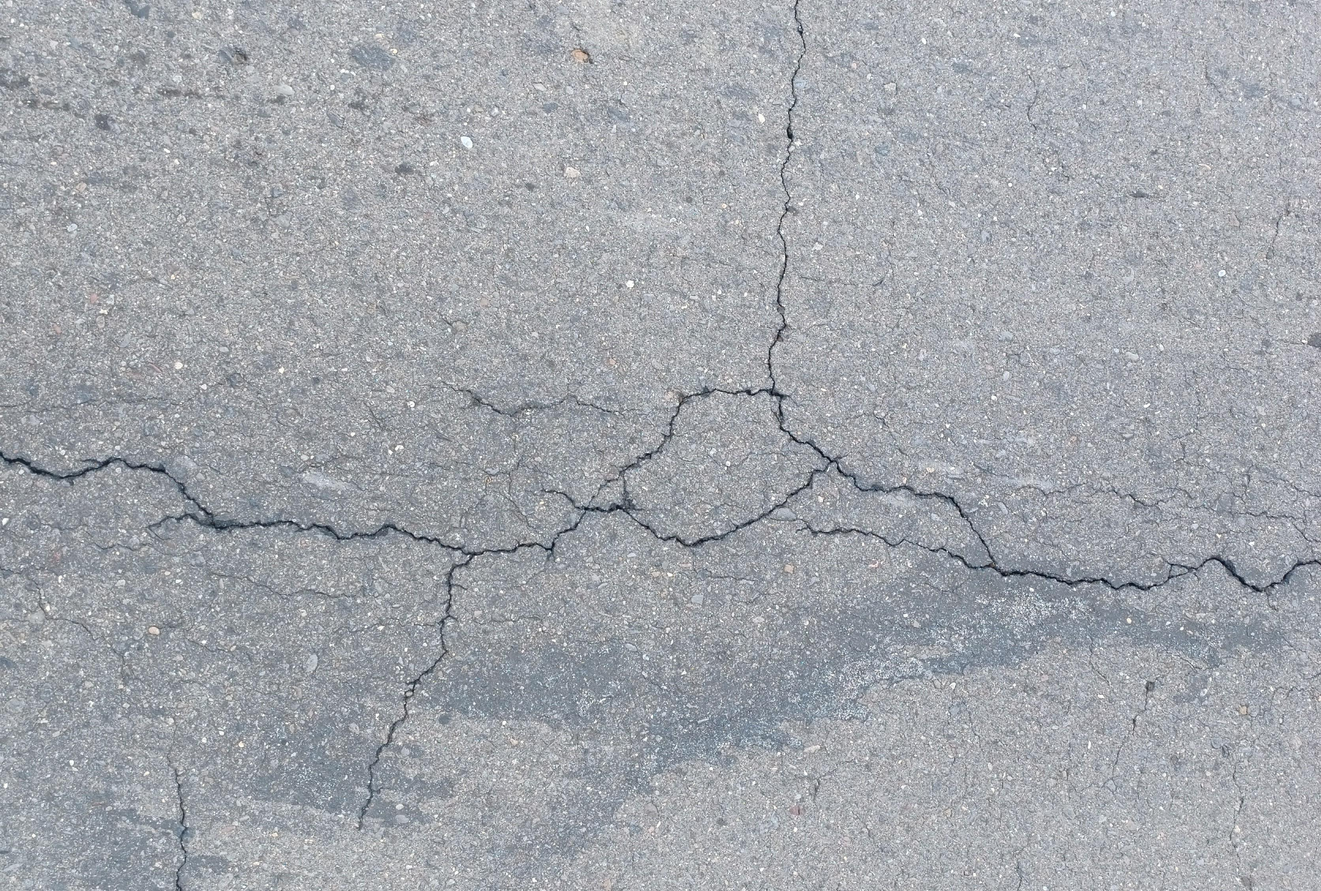GRIETA: (0, 451, 466, 556), (358, 561, 470, 832), (767, 0, 807, 358), (1027, 556, 1321, 596), (173, 769, 190, 891)
PIEL DE COCODRILO: (415, 355, 1031, 605), (925, 657, 1321, 891), (1060, 419, 1321, 553)
